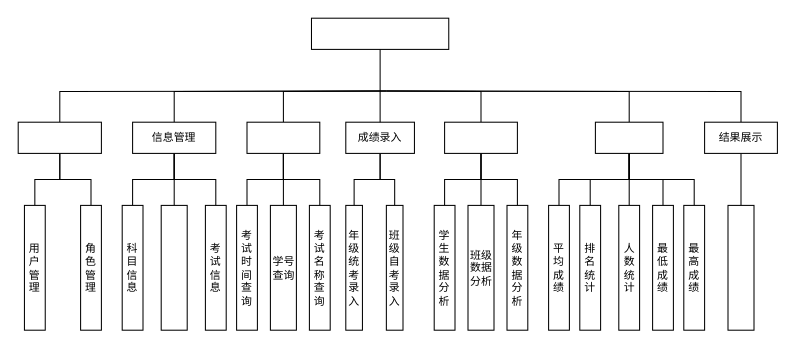
The diagram is 796 pixels wide and 348 high, and some of its shapes have lost their labels. Each missing label, with the centre of its shape:
中小学成绩分析系统: the point at 379,33
学校信息: the point at 173,267
成绩分析: the point at 480,137
成绩查询: the point at 283,137
成绩统计: the point at 628,137
系统管理: the point at 59,137
网页展示: the point at 740,267
